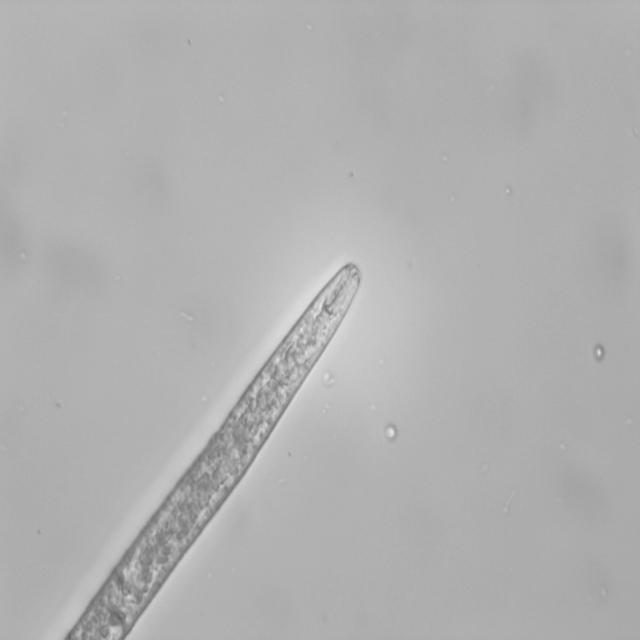Pratylenchus: (73, 240, 370, 640)
